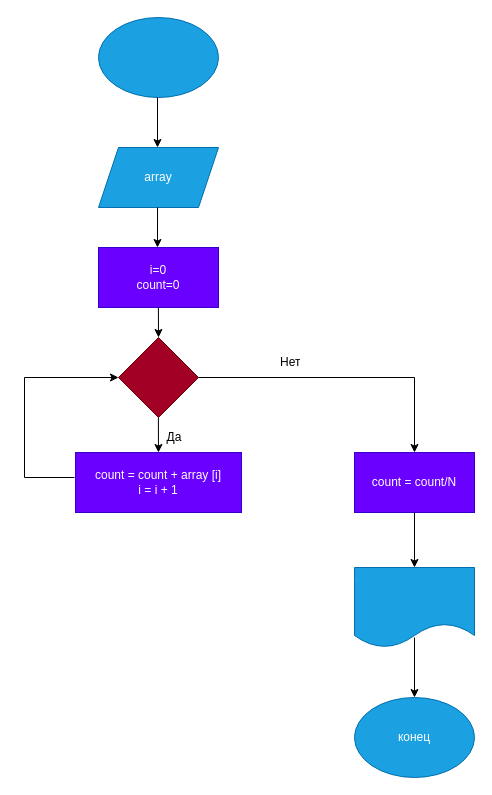
The diagram is 492 pixels wide and 795 high, and some of its shapes have lost their labels. The shapes that lost their labels are listed below. From the top down, each one's centre as x and y in pixels, then its label:
the point at 158,57: Начало
the point at 158,377: i<=N
the point at 414,607: count
